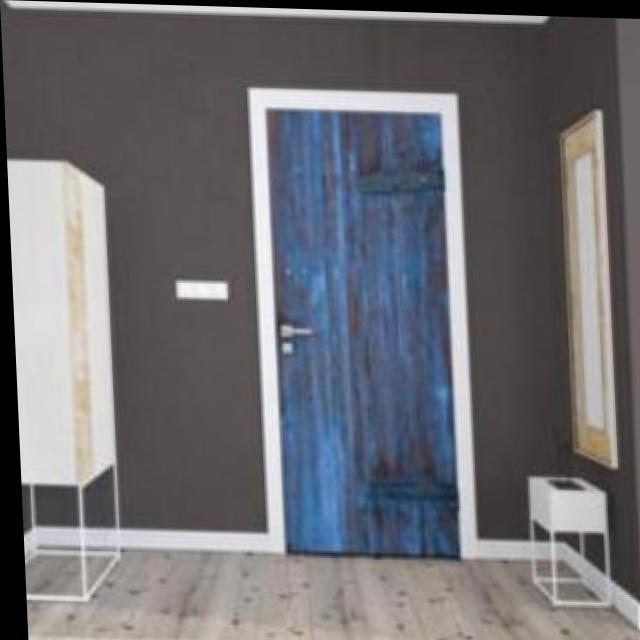door_handle: (269, 317, 324, 342)
